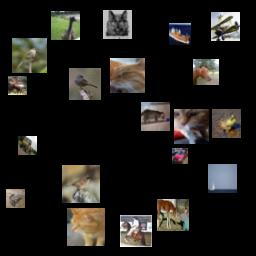airplane: (211, 12, 240, 41)
automobile: (172, 148, 188, 164)
bird: (62, 165, 100, 203), (12, 38, 47, 73), (69, 68, 101, 100), (51, 11, 80, 40)
cat: (67, 208, 105, 246), (174, 109, 209, 144), (110, 58, 145, 93), (103, 10, 132, 39), (141, 102, 170, 131)
deer: (8, 76, 27, 95)
frog: (212, 109, 241, 138), (6, 189, 25, 208)
ship: (208, 164, 237, 193), (169, 23, 191, 45)
truck: (18, 136, 37, 155)
